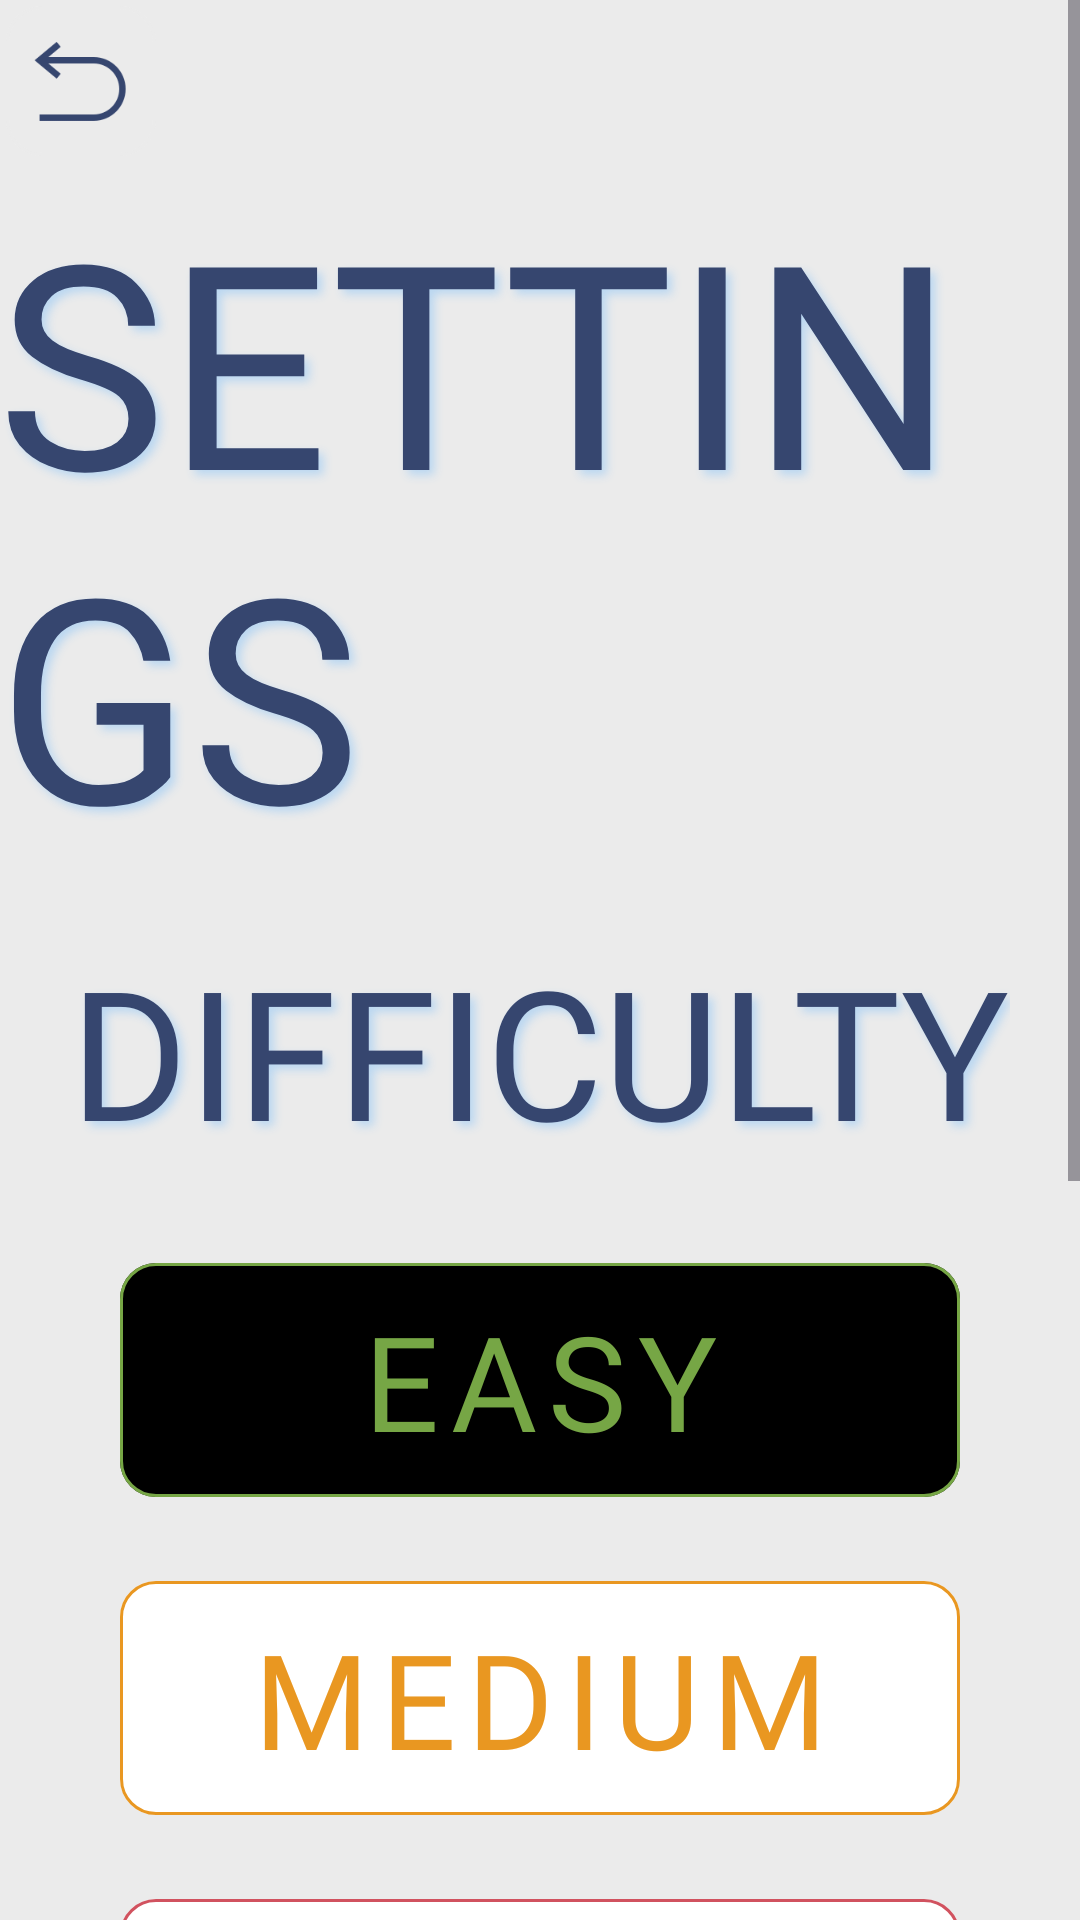

Screen size 1080×1920. Icon name, then its box in pixels as [x1, y1, x2, y2]:
back: [35, 42, 126, 121]
